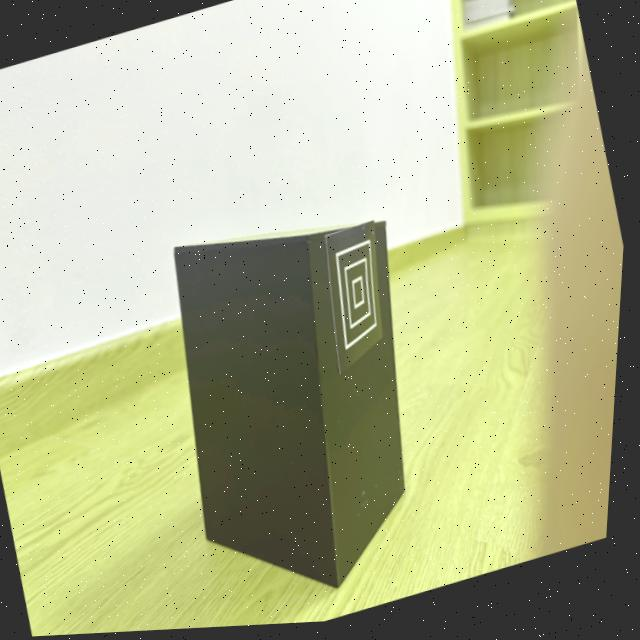BULLSEYE: (328, 223, 388, 378)
